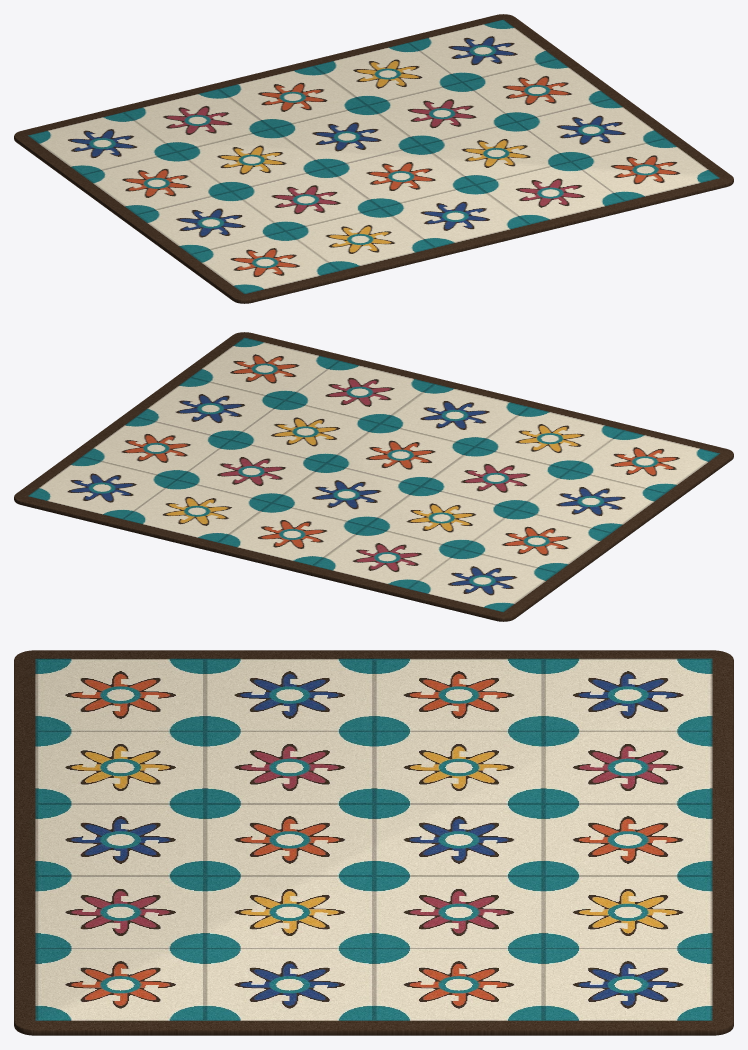
File: dish_mat.glb
3 views of the same model, one above another, from view 1: azimuth 30°, elevation 25°; view 2: azimuth 150°, elevation 25°; view 3: azimuth 270°, elevation 25° (orthographic). The views are drawn at different scales.
Visible parts, largest first — view 1: HomeCloud Dish Drying Mat; view 2: HomeCloud Dish Drying Mat; view 3: HomeCloud Dish Drying Mat.
Part boxes in pixels (left/top/right/bottom): HomeCloud Dish Drying Mat: left=14, top=14, right=733, bottom=303; HomeCloud Dish Drying Mat: left=14, top=332, right=733, bottom=621; HomeCloud Dish Drying Mat: left=14, top=650, right=733, bottom=1035.
Bounding box in the file's own units: 0.5 × 0.004 × 0.4.
Materials: 1 (1 with a texture image).
